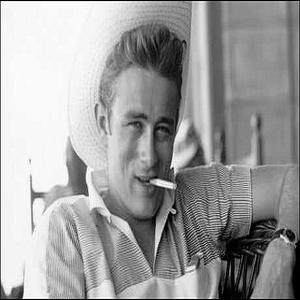cigarette: (148, 176, 179, 192)
